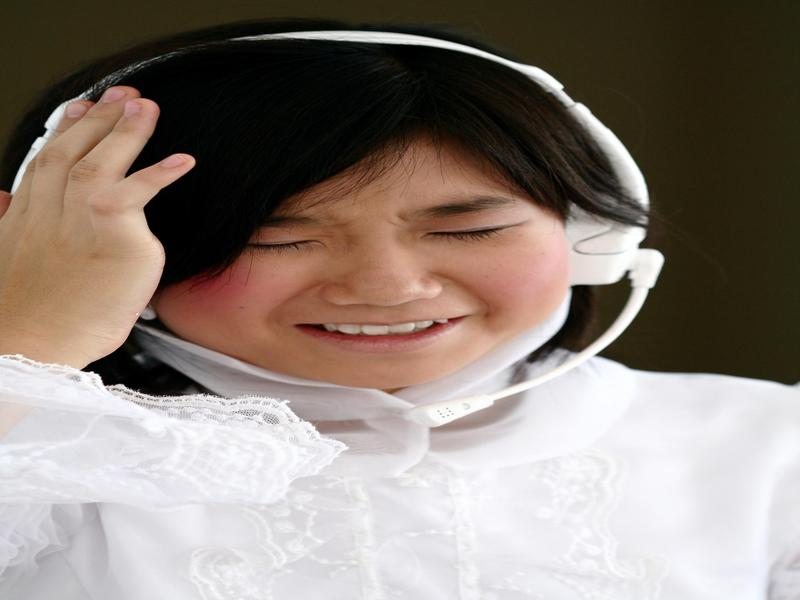person: (3, 21, 795, 600)
